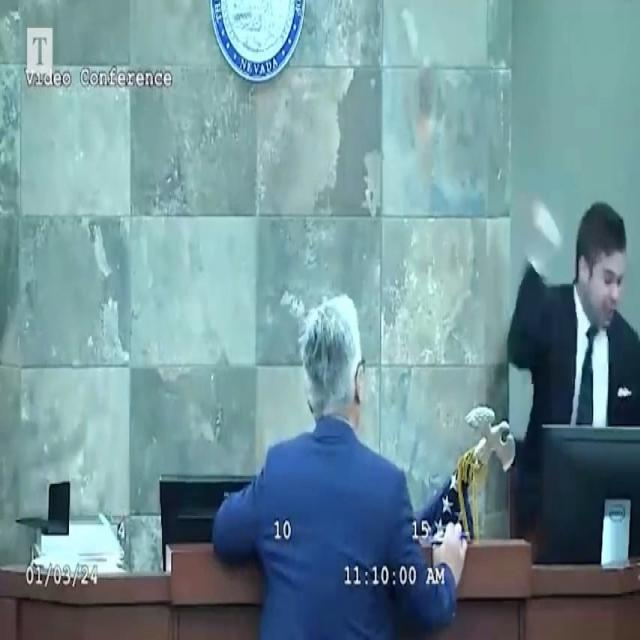fight: (504, 174, 637, 506)
non-fight: (202, 276, 470, 640)
